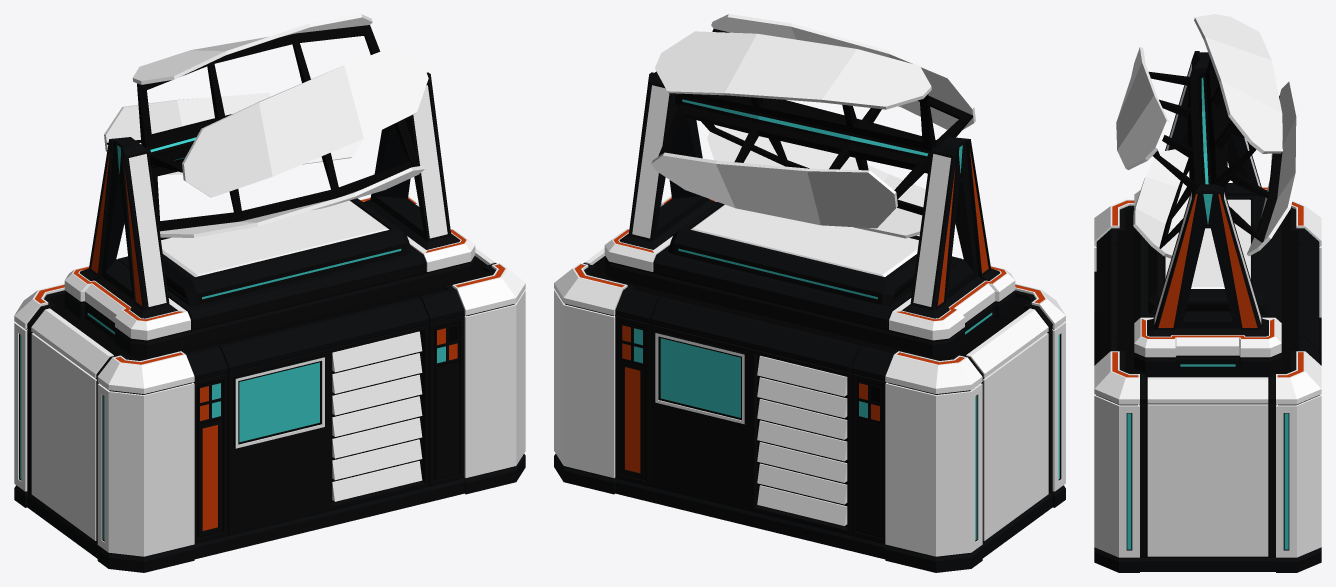
Rendered from SM_Wind_T1.obj.
The picture shows the model from 3 angles, left to right: view 1: azimuth 30°, elevation 25°; view 2: azimuth 150°, elevation 25°; view 3: azimuth 270°, elevation 25°; orthographic projection. The views are drawn at different scales.
Parts seen in each view (by area): view 1: SM_Wind_T1_Base, SM_Wind_T1_Rotor; view 2: SM_Wind_T1_Base, SM_Wind_T1_Rotor; view 3: SM_Wind_T1_Base, SM_Wind_T1_Rotor.
Boxes of the visible parts, x1,y1,x2,y2 form: SM_Wind_T1_Base: (14,72,525,572); SM_Wind_T1_Rotor: (104,14,428,237); SM_Wind_T1_Base: (554,71,1065,572); SM_Wind_T1_Rotor: (651,14,975,238); SM_Wind_T1_Base: (1094,51,1321,572); SM_Wind_T1_Rotor: (1116,14,1299,258).
Bounding box in the file's own units: 2 × 2.04 × 1.
